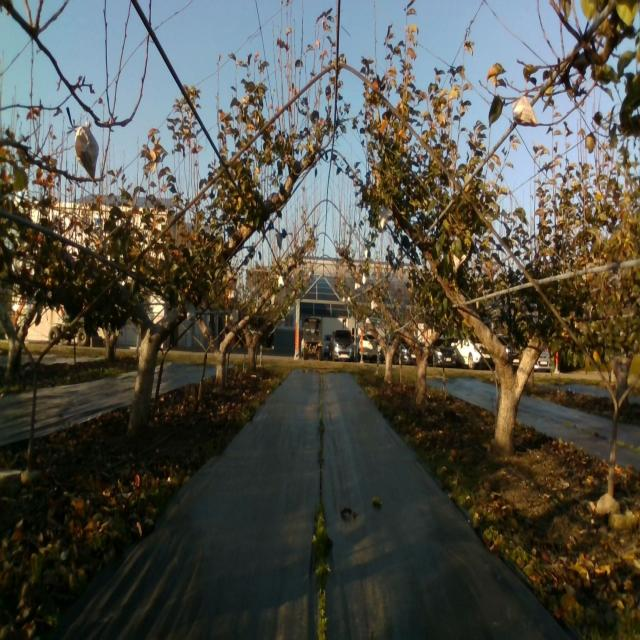pearbags: (75, 121, 99, 179), (512, 97, 540, 127), (378, 206, 393, 231), (186, 302, 196, 321)
